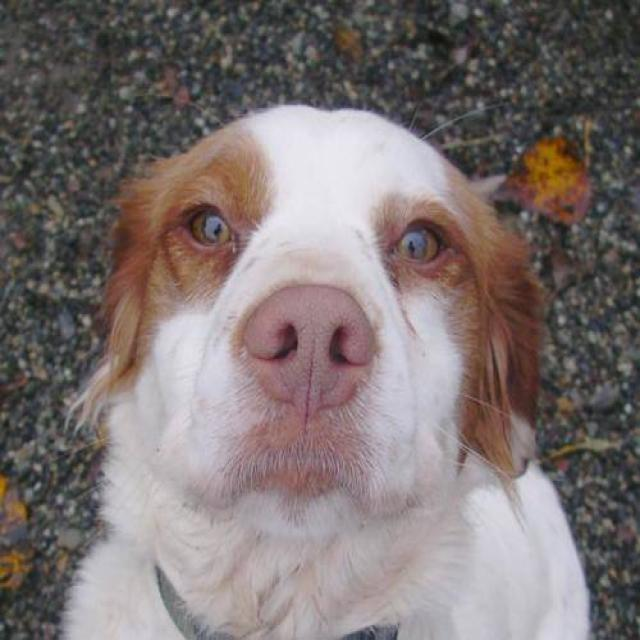dog: (48, 101, 596, 638)
